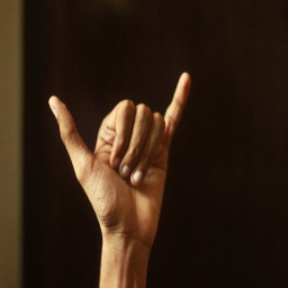J: (45, 68, 191, 238)
